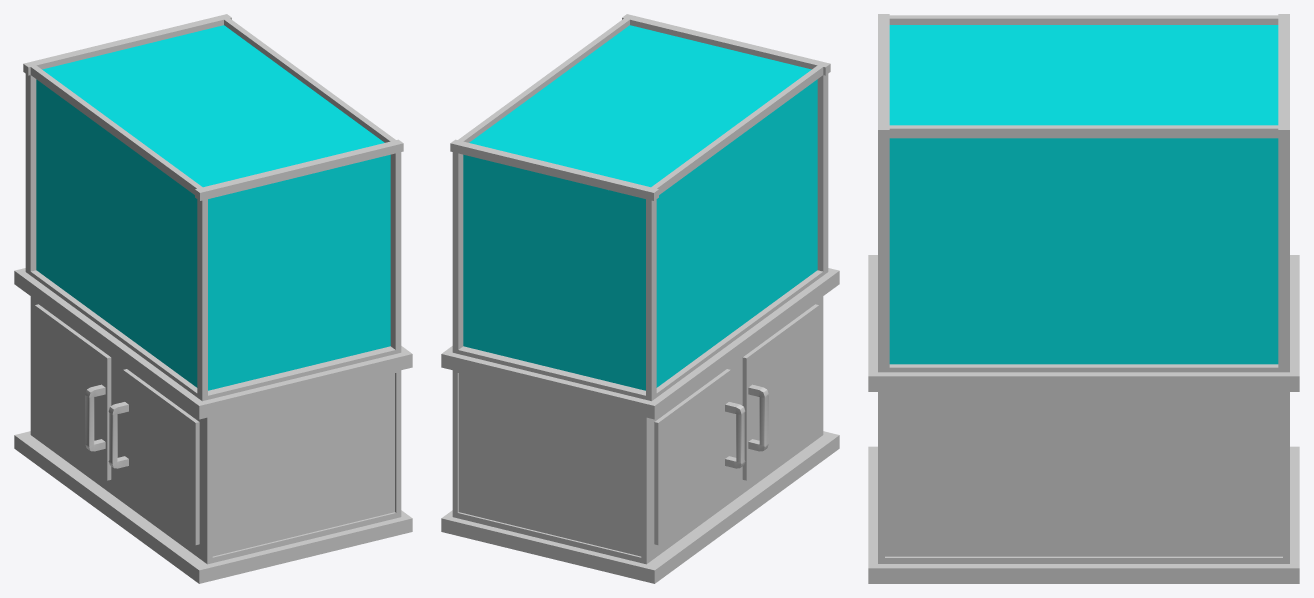
File: Fish Tank.fbx
The picture shows the model from 3 angles, left to right: view 1: azimuth 30°, elevation 25°; view 2: azimuth 150°, elevation 25°; view 3: azimuth 270°, elevation 25°; orthographic projection. The views are drawn at different scales.
Parts seen in each view (by area): view 1: Glass, Cabinet, Frame; view 2: Glass, Cabinet, Frame; view 3: Glass, Cabinet, Frame.
Part boxes in pixels (x1,y1,x2,y2): Glass: [36, 25, 390, 390]; Cabinet: [30, 296, 401, 564]; Frame: [14, 14, 412, 583]; Glass: [463, 25, 817, 390]; Cabinet: [452, 296, 823, 564]; Frame: [441, 14, 839, 583]; Glass: [889, 25, 1278, 364]; Cabinet: [878, 392, 1289, 563]; Frame: [868, 14, 1299, 583].
Bounding box in the file's own units: 42.96 × 71.78 × 62.2.
